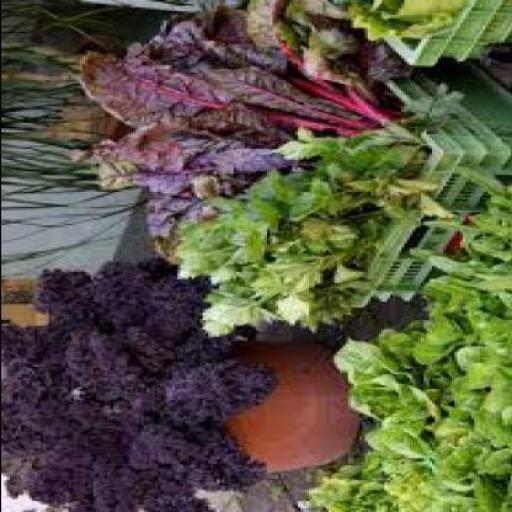biodegradable: (2, 261, 268, 511), (65, 126, 355, 264), (122, 2, 384, 132), (168, 151, 425, 281), (339, 314, 509, 482), (72, 56, 402, 137), (196, 248, 366, 337), (414, 186, 510, 332), (289, 452, 510, 510), (266, 124, 406, 168), (338, 2, 464, 45), (304, 28, 364, 82), (241, 2, 291, 41), (475, 47, 510, 91), (364, 50, 403, 80), (414, 201, 450, 221)
